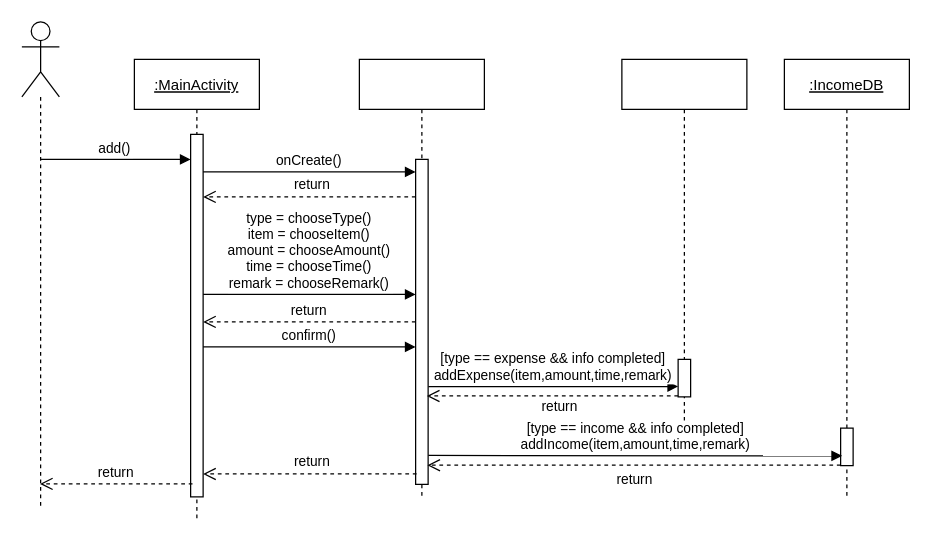
Some shapes in this 931 by 544 pixel diagram are drawn without their labels. Each missing label, with the box of its shape:
:addBillActivity: (358, 58, 484, 497)
:ExpenseDB: (621, 58, 747, 422)
